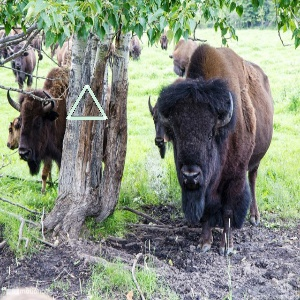triangle: (64, 82, 112, 123)
